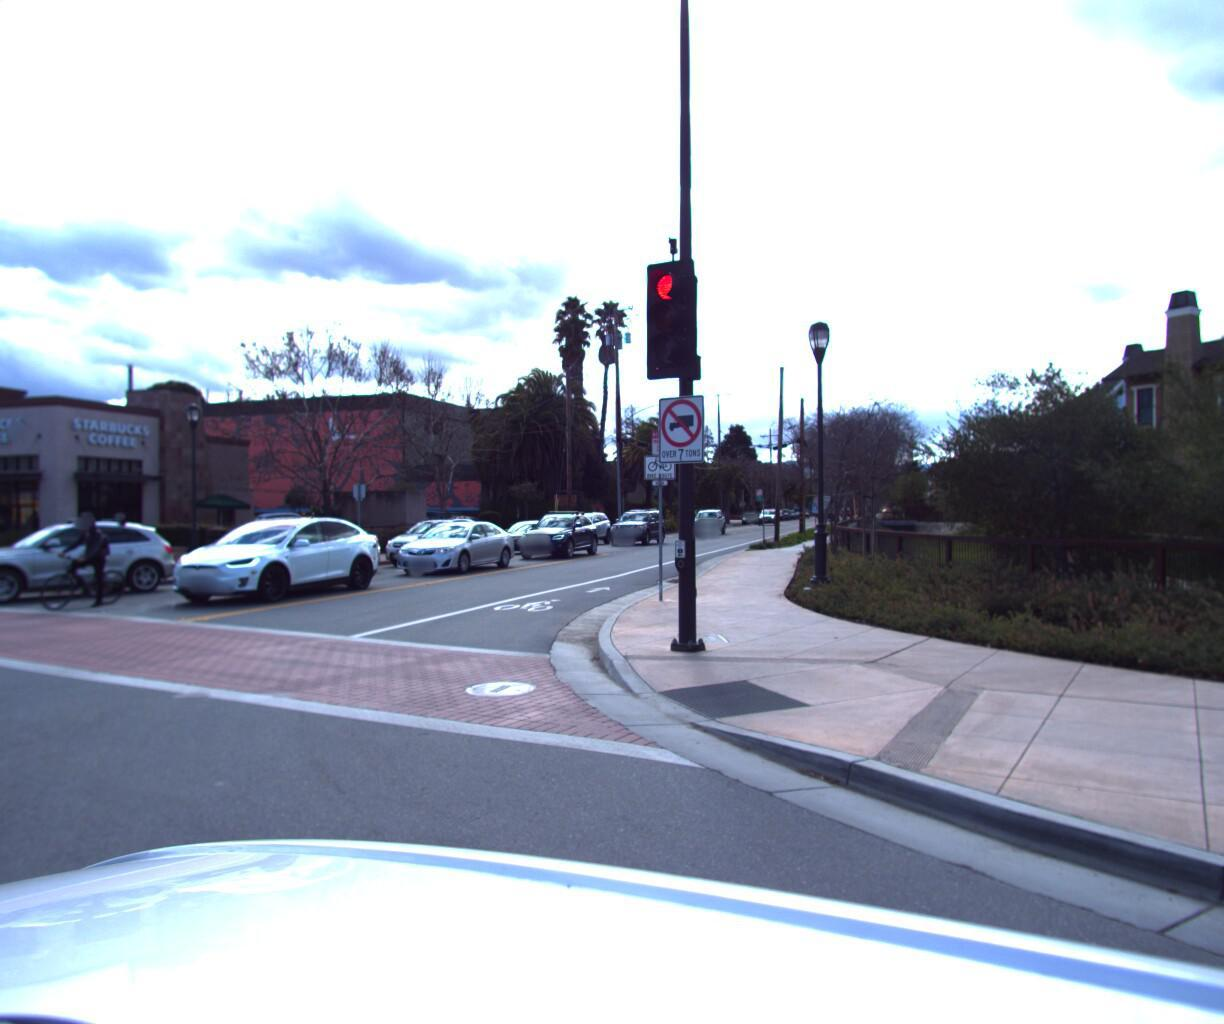bicycle: (23, 514, 143, 614)
car: (143, 506, 395, 613), (207, 521, 385, 585), (386, 518, 518, 575), (373, 510, 488, 566), (510, 508, 603, 557), (536, 509, 613, 547), (603, 502, 669, 544), (688, 504, 733, 530)
